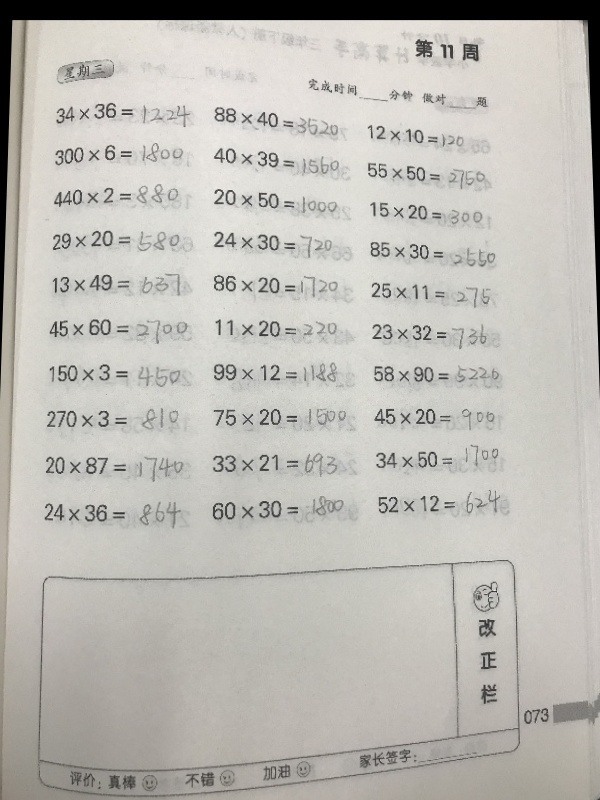equation: (46, 360, 193, 400), (211, 310, 345, 348), (40, 498, 185, 533), (373, 487, 512, 523), (41, 449, 187, 482), (209, 449, 361, 480), (44, 314, 190, 346), (210, 404, 356, 435), (210, 359, 346, 392), (371, 443, 503, 476), (48, 226, 196, 255), (369, 320, 503, 352), (49, 270, 190, 300), (369, 359, 502, 390), (209, 229, 336, 261), (207, 494, 346, 523), (370, 403, 499, 434), (51, 99, 192, 127), (209, 148, 342, 177), (50, 140, 186, 167), (209, 271, 340, 299), (43, 405, 178, 432), (208, 108, 341, 135), (49, 182, 181, 209), (367, 280, 494, 308), (362, 161, 488, 189), (365, 241, 498, 267), (365, 202, 495, 226), (210, 189, 342, 212), (363, 123, 467, 148)
